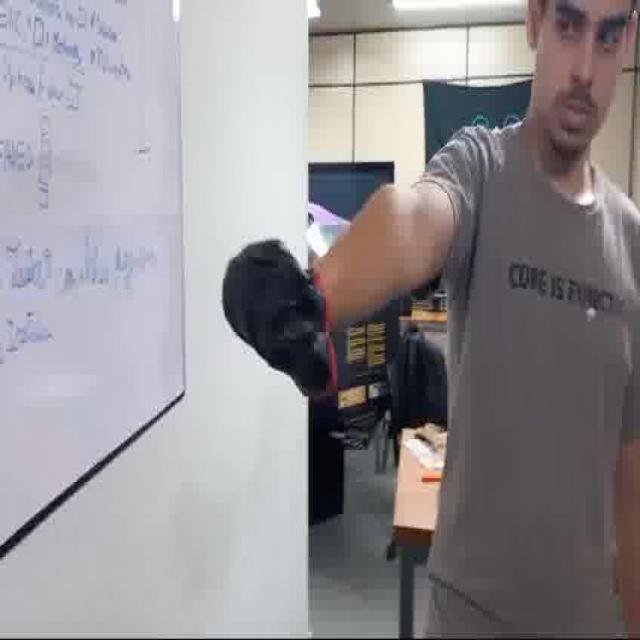Gloves: (225, 238, 346, 402)
